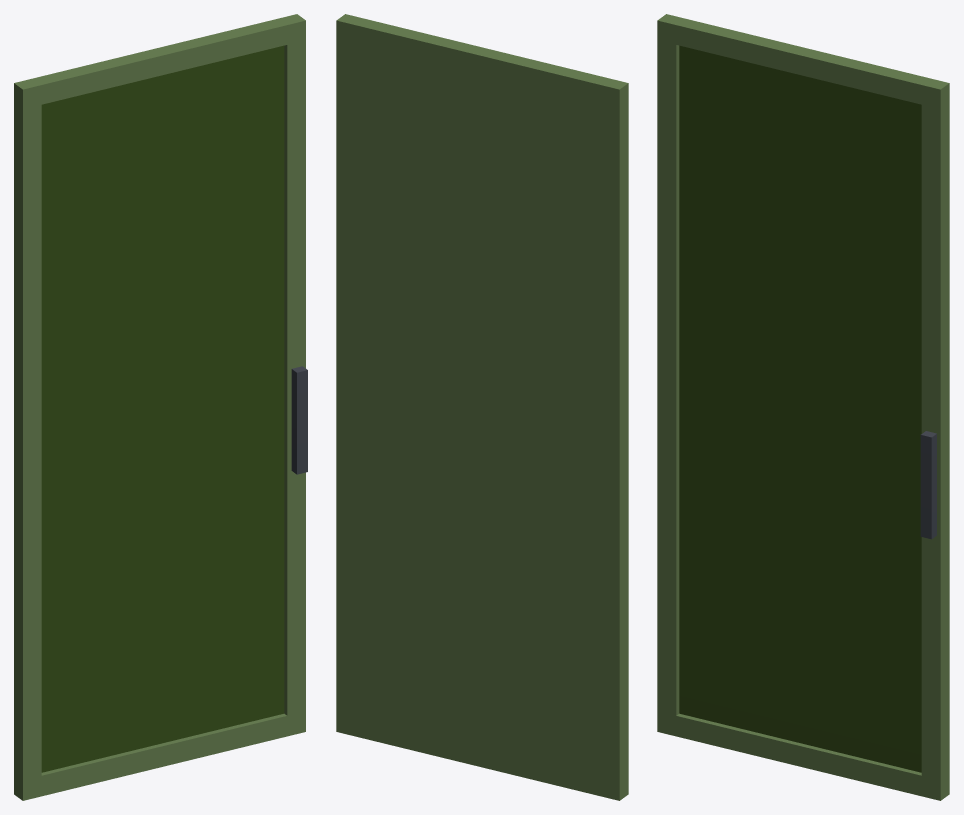
Rendered from House_50_Door01.fbx.
3 renders of one model, left to right at view 1: azimuth 30°, elevation 25°; view 2: azimuth 150°, elevation 25°; view 3: azimuth 330°, elevation 25°, orthographic.
Parts seen in each view (by area): view 1: House_50_Door01; view 2: House_50_Door01; view 3: House_50_Door01.
Boxes of the visible parts, bbox=[...] form: House_50_Door01: bbox=[14, 14, 307, 800]; House_50_Door01: bbox=[336, 14, 628, 800]; House_50_Door01: bbox=[657, 14, 949, 800].
Size of the model in its own units: 0.9165 by 2.2 by 0.08.
